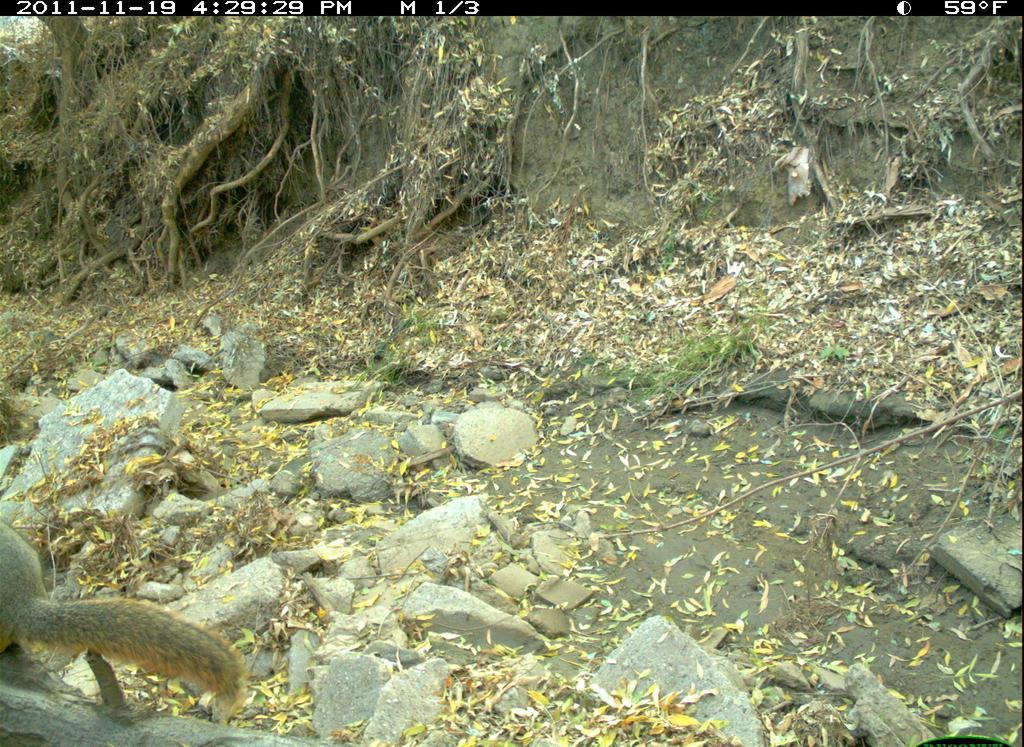squirrel: (4, 502, 262, 716)
